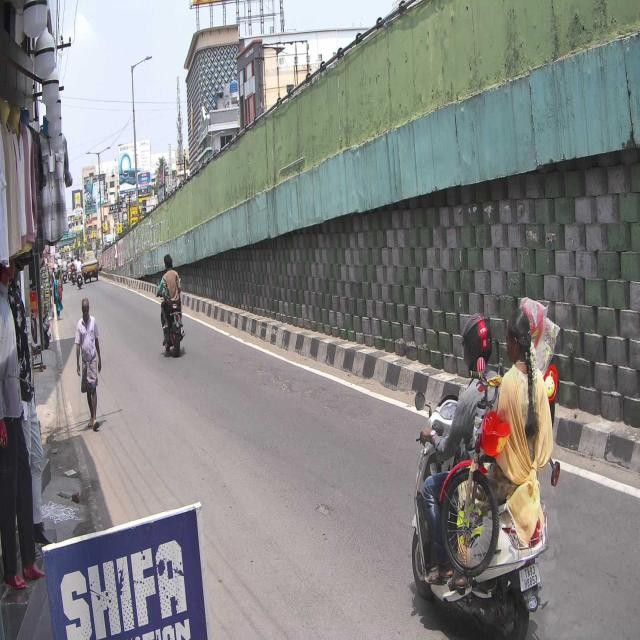double_rider: (412, 300, 562, 640)
